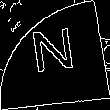N_S: (29, 27, 81, 83)
